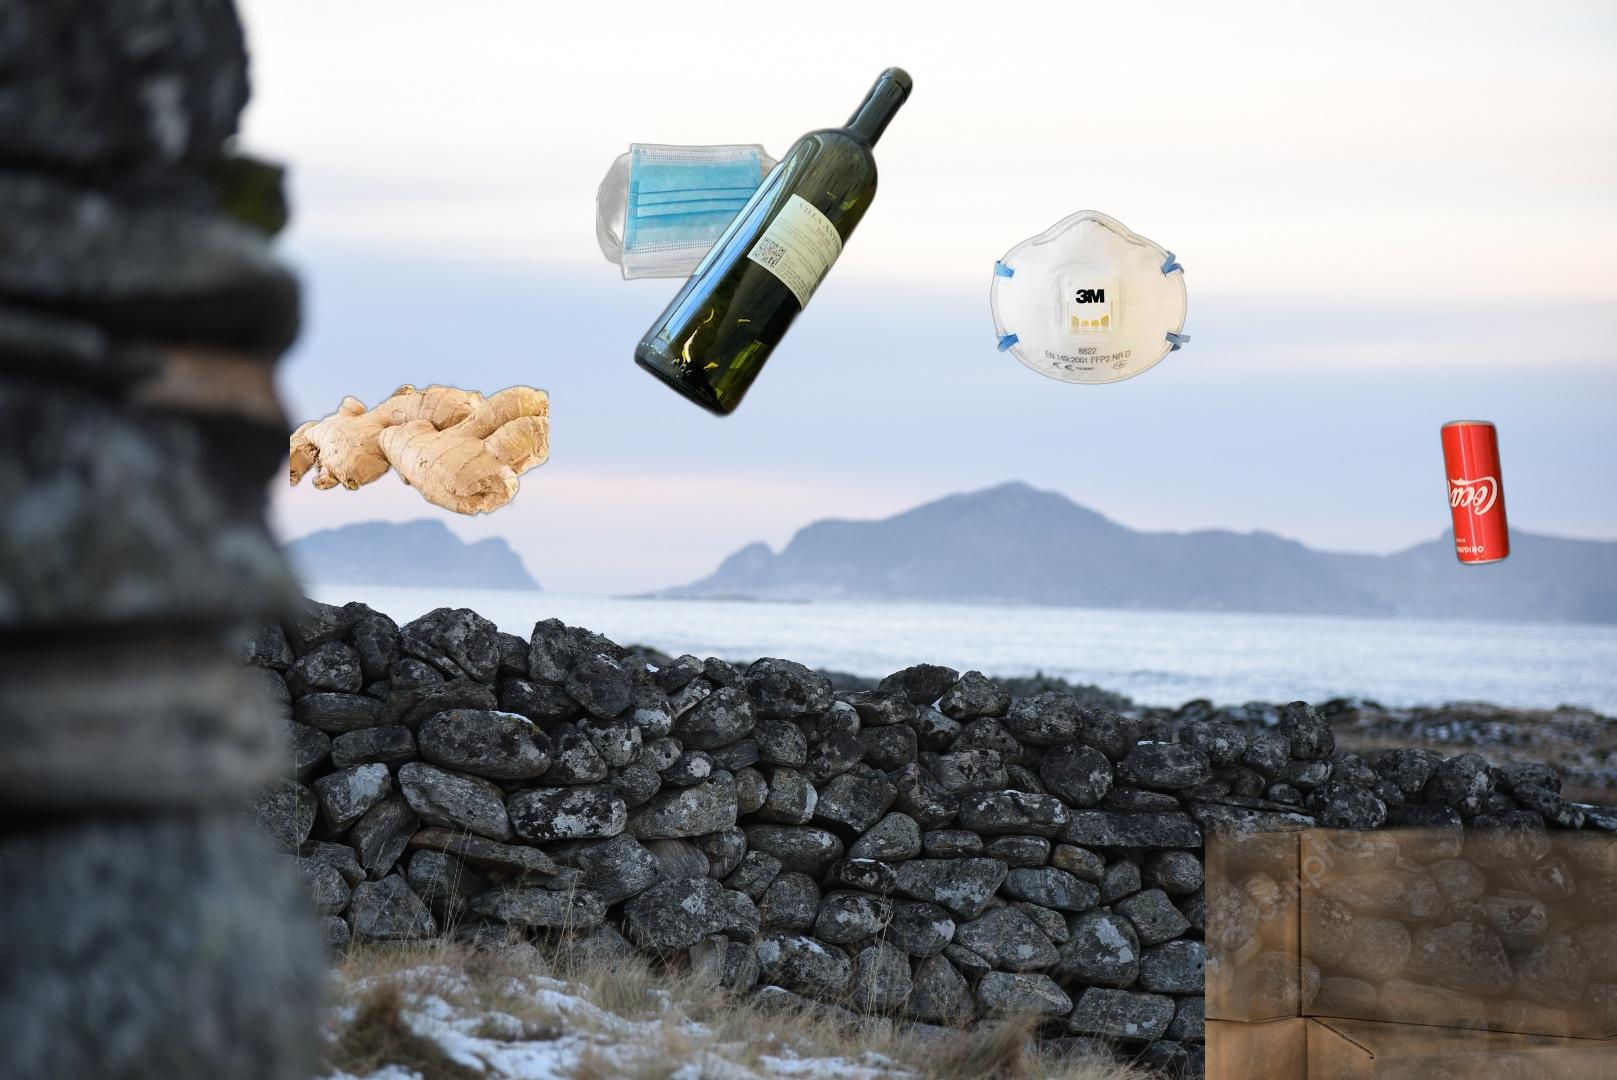biological: (290, 381, 549, 521)
glass: (629, 61, 918, 423)
metal-cans: (1437, 413, 1515, 571)
trash: (988, 207, 1193, 387), (596, 140, 795, 283)
trashbox-cardboard: (1205, 614, 1617, 1080)
